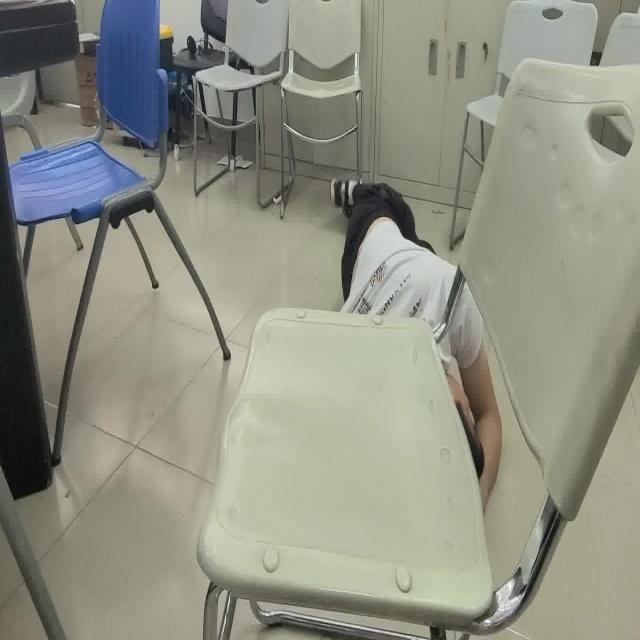Fall-Detected: (329, 170, 504, 531)
